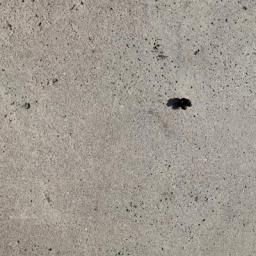FOD: (166, 95, 196, 116)
